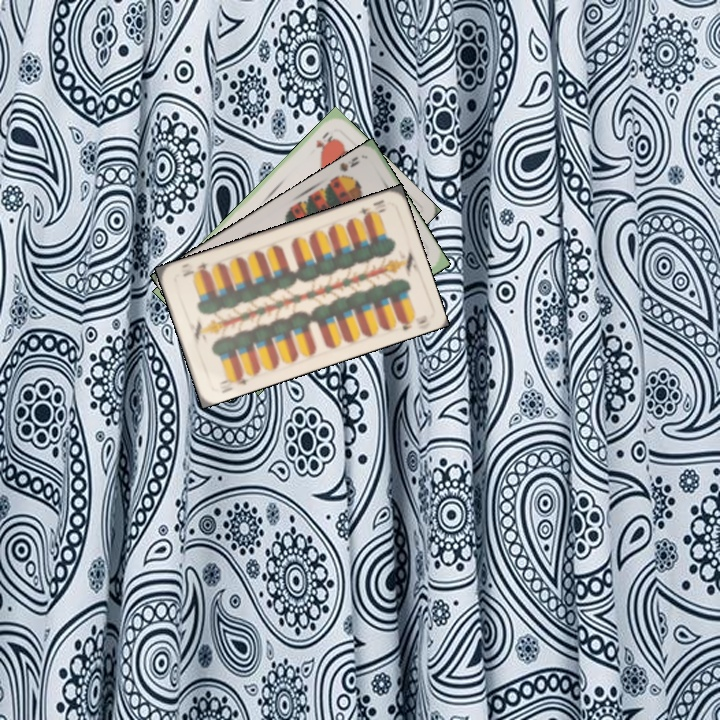E10: (214, 369, 251, 396), (354, 203, 388, 221)
HO: (312, 127, 335, 151)
S9: (330, 152, 363, 185)
